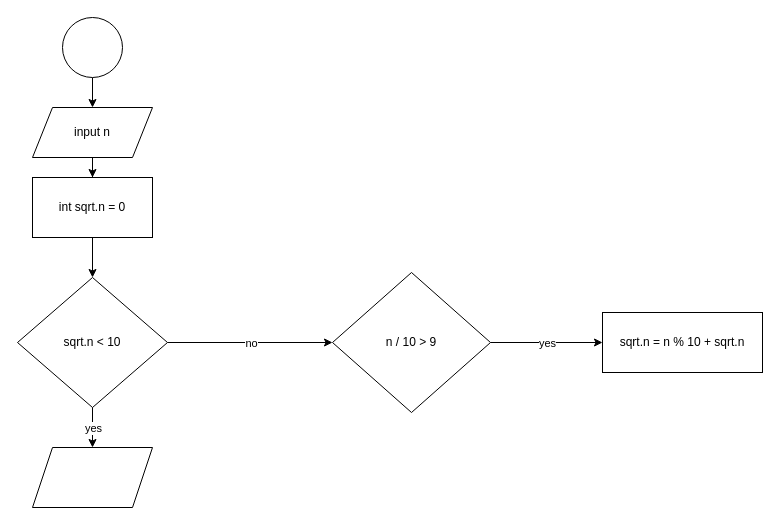
The diagram is 780 pixels wide and 525 high, and some of its shapes have lost their labels. The centre of each missing label's shape, as x and y in pixels:
"output sqrt.n" goes at (92,477).
"start" goes at (92,47).
